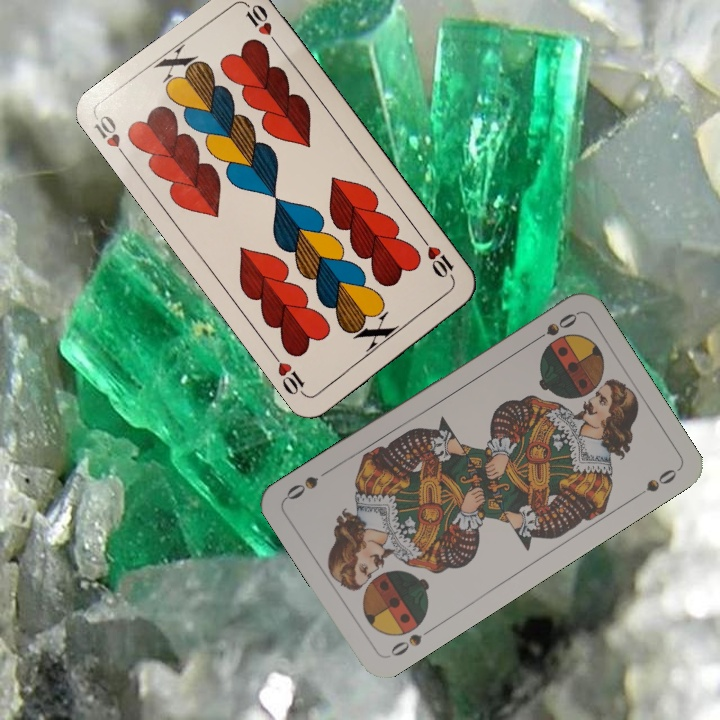H10: (90, 110, 133, 165), (417, 233, 458, 285)
SO: (527, 309, 580, 347), (386, 623, 436, 660)
